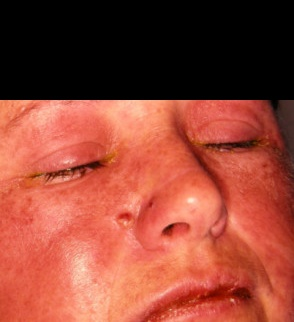SJS-TEN: (6, 165, 68, 193), (96, 136, 134, 180), (179, 128, 212, 158), (249, 123, 280, 150)
